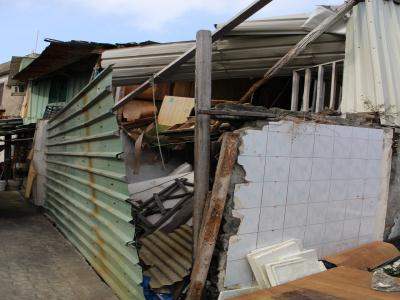box: (157, 95, 195, 127)
